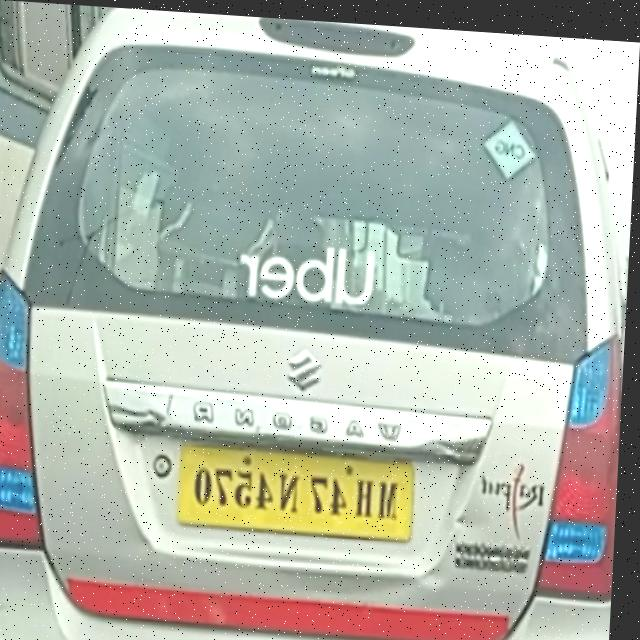plate: (179, 434, 424, 537)
